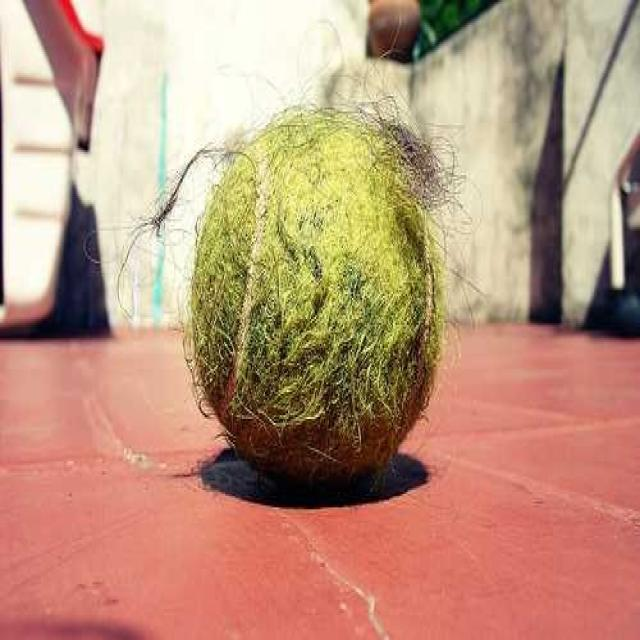Tennis_Ball: (183, 117, 441, 470)
